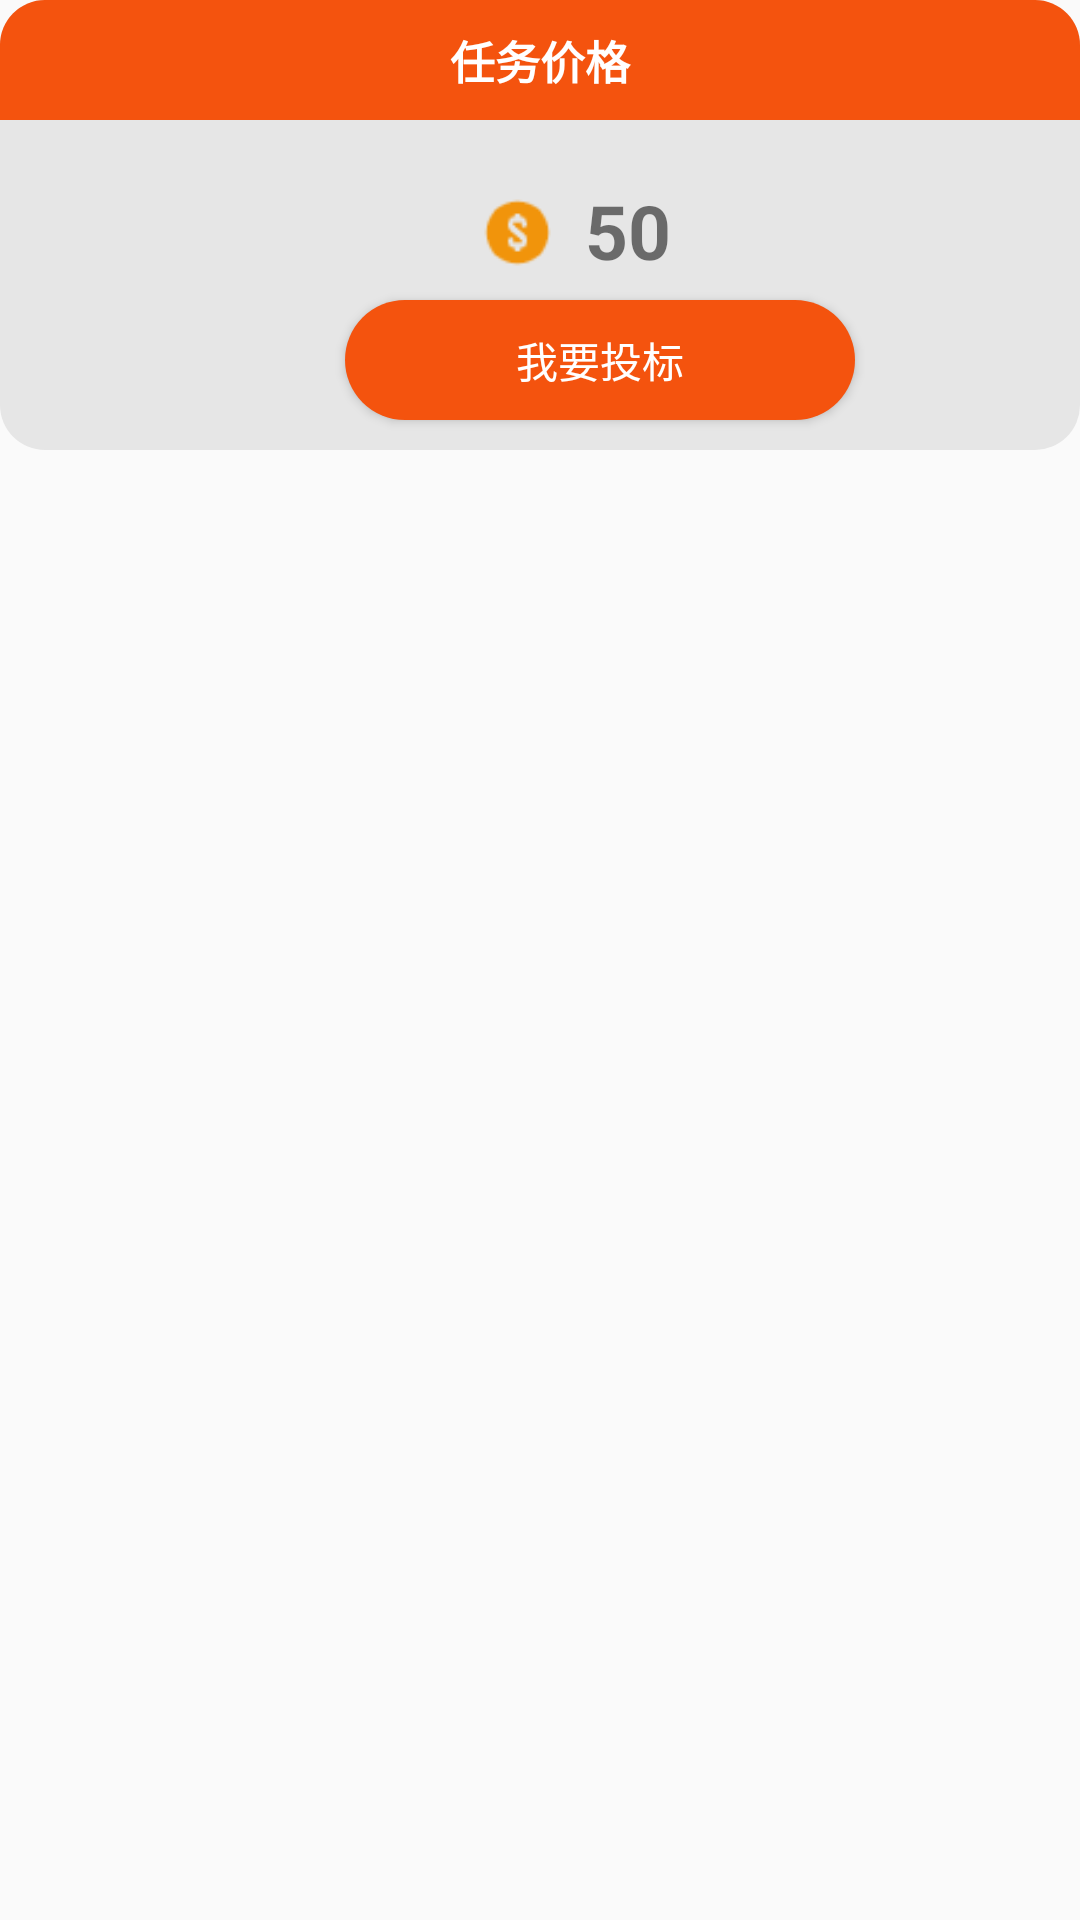

Point at icon controls on the screen. Image size 1080w x 1920h, points as point (x, y).
dollar: point (517, 232)
